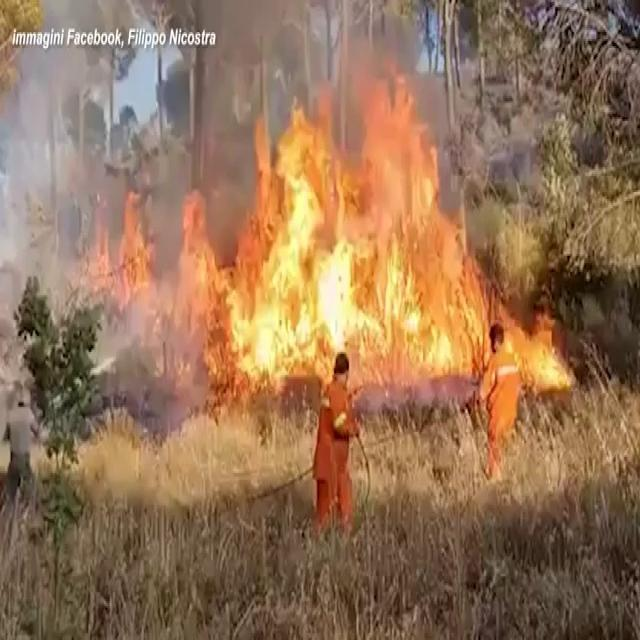Fire: (182, 43, 557, 404), (106, 178, 168, 318)
Smoke: (0, 1, 119, 350)
